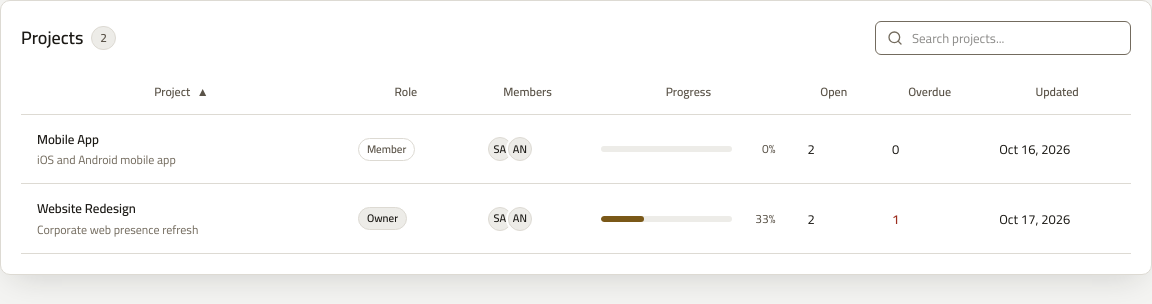
Test case: Professional Dashboard Components (Task 26 TDD) › ProjectsTable › shows empty search result when search yields no matches
Type "Nonexistent Project XYZ" into the search field with placeholder "Search projects..." at (1003, 38), box [875,21,1131,55]
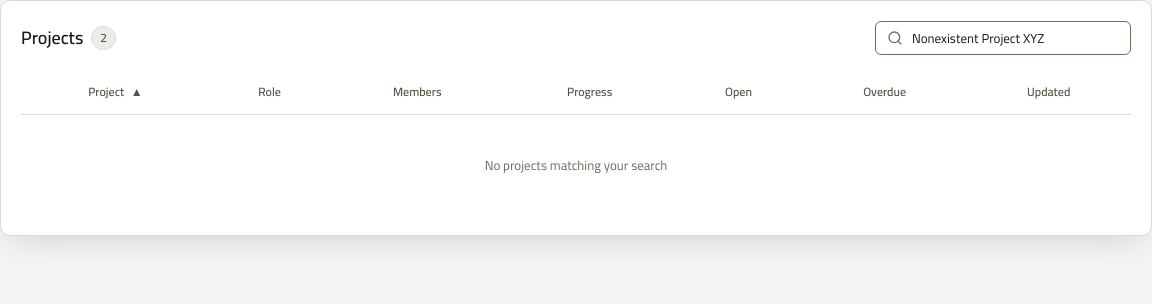
Expected: the text "No projects matching your search" is shown, [21,114,1131,215]
